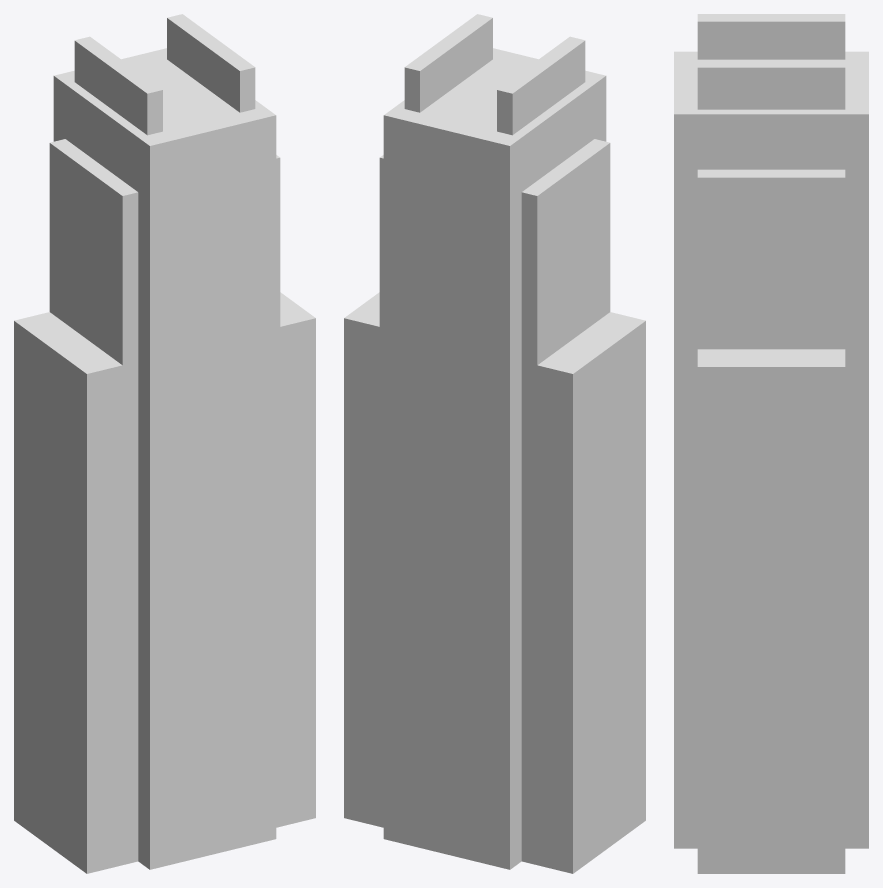
The model's file is skyscrapper_2.fbx.
The picture shows the model from 3 angles, left to right: view 1: azimuth 30°, elevation 25°; view 2: azimuth 150°, elevation 25°; view 3: azimuth 270°, elevation 25°; orthographic projection.
Visible parts, largest first — view 1: skyscraper_2; view 2: skyscraper_2; view 3: skyscraper_2.
Part boxes in pixels (box(x1,y1,x2,y2)): skyscraper_2: box(14, 14, 315, 873); skyscraper_2: box(344, 14, 645, 873); skyscraper_2: box(674, 14, 868, 873).
Bounding box in the file's own units: 41.05 × 131 × 29.83.
